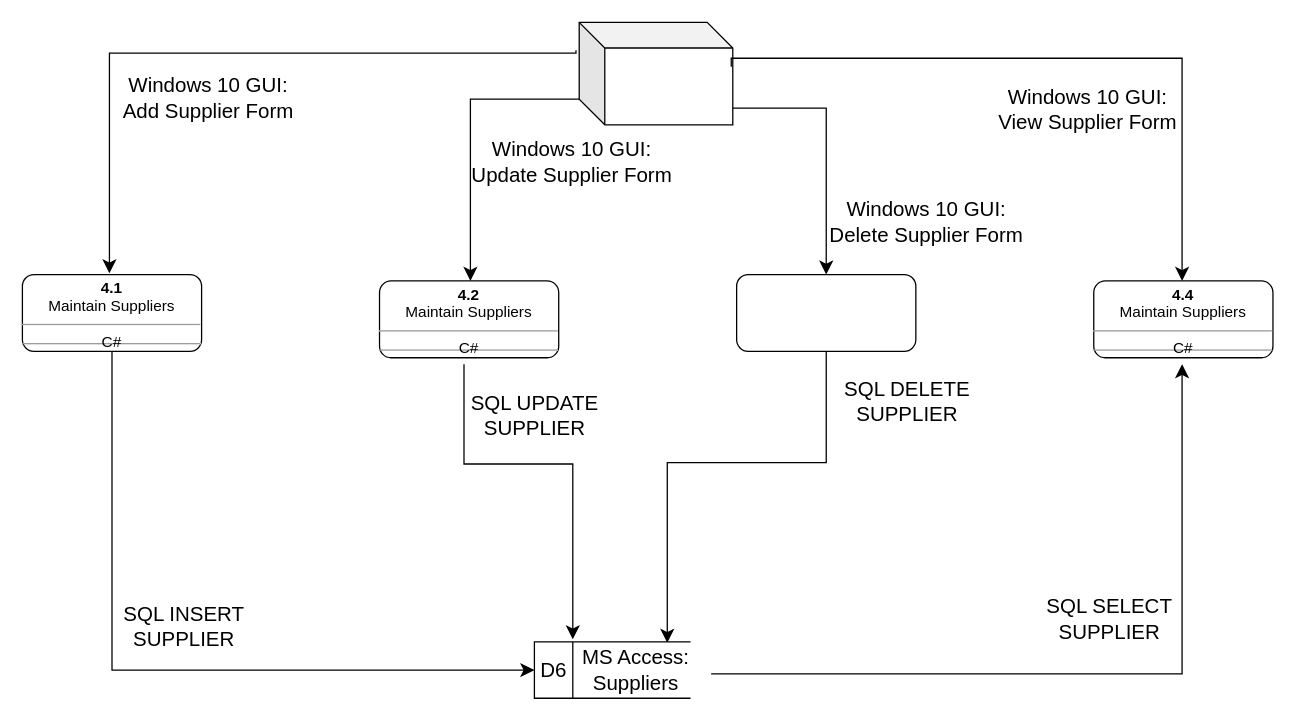
This 1295x721 diagram has some shape labels left out. The centre of each missing label's shape, as x and y in pixels:
4.3 Maintain Suppliers C#: the point at 825,312
Supervisor: the point at 655,73
